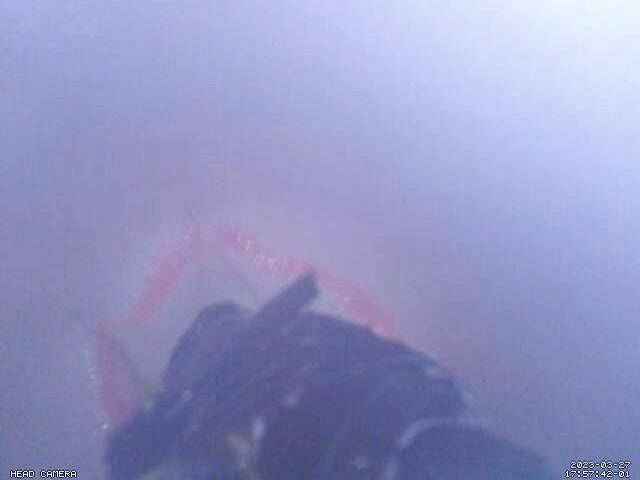head: (94, 220, 406, 428)
